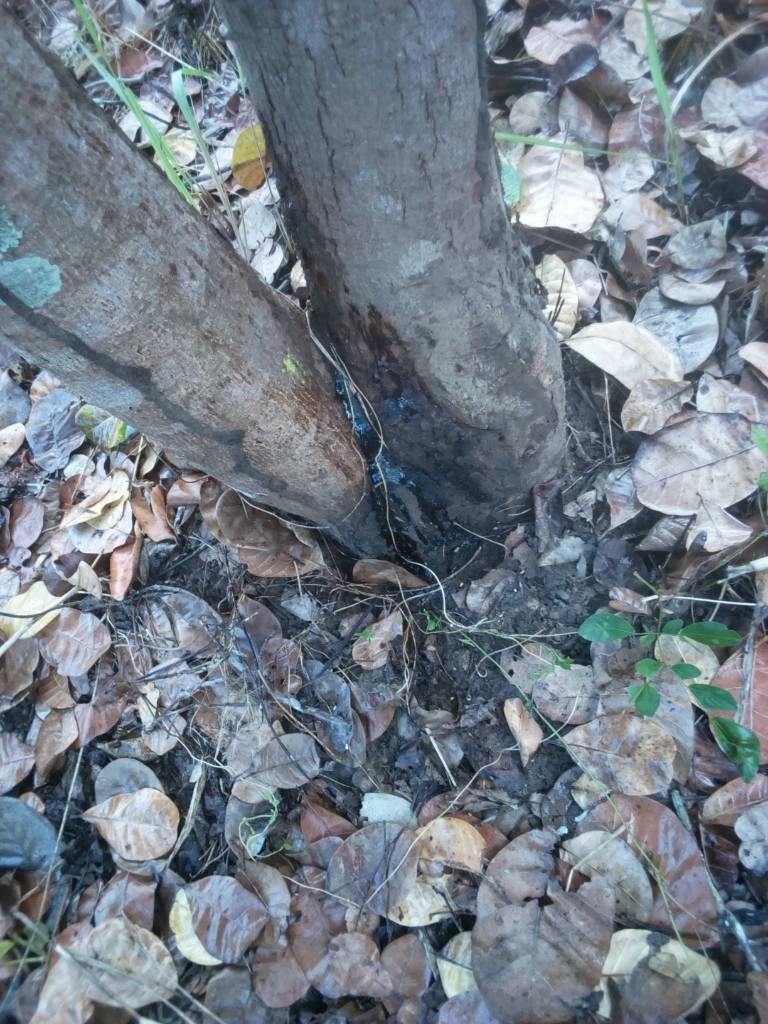Termites: (90, 333, 325, 522)
